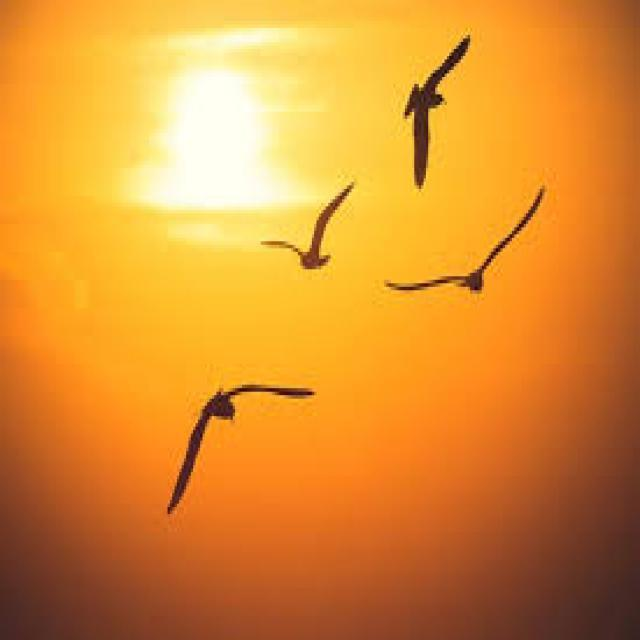bird: (140, 351, 370, 558), (378, 172, 567, 388), (382, 21, 500, 186), (238, 150, 374, 290)
